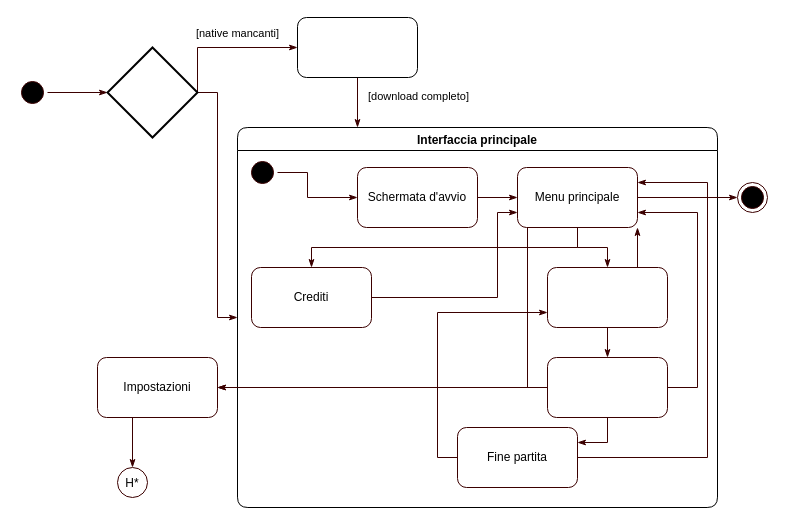
Image size: 785x525. Some labels were removed from this diagram. The shapes that lost their labels are listed below. From the top down, each one's centre as x and y in pixels, then its label:
(x=357, y=47): Native download
(x=607, y=297): Lobby partita
(x=607, y=387): Partita
